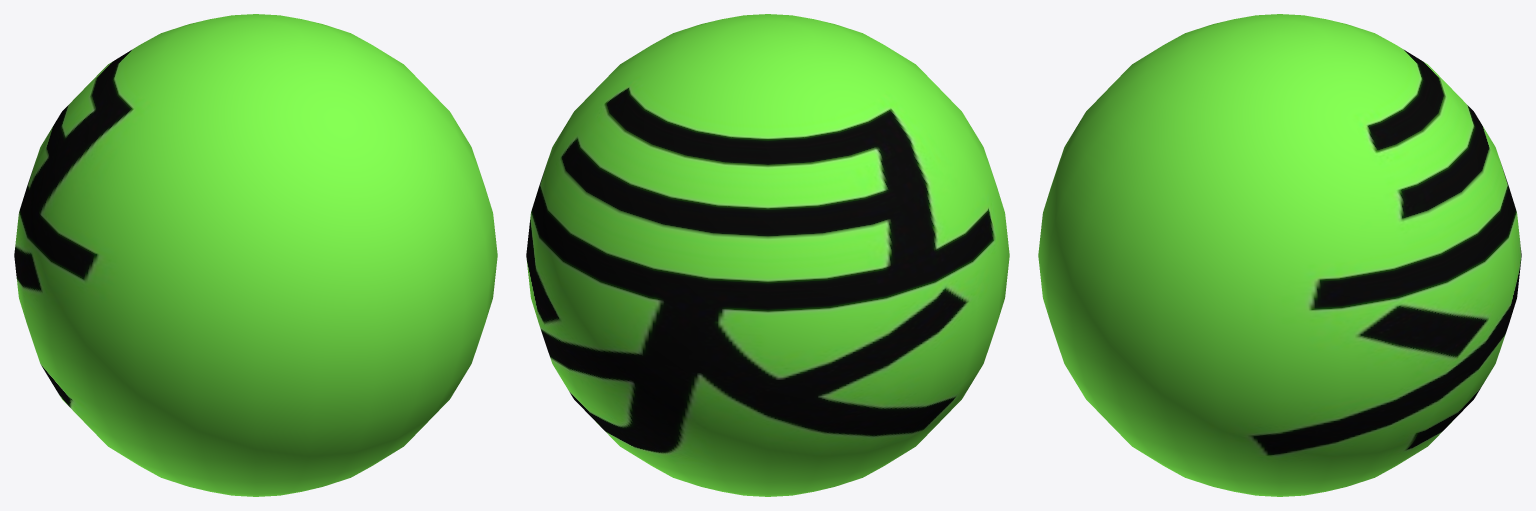
Rendered from anchor.obj.
3 views of the same model, side by side, from view 1: azimuth 30°, elevation 25°; view 2: azimuth 150°, elevation 25°; view 3: azimuth 270°, elevation 25° (orthographic).
Parts seen in each view (by area): view 1: AnchorSphere; view 2: AnchorSphere; view 3: AnchorSphere.
Boxes of the visible parts, <box> form: AnchorSphere: <box>14,14,497,496</box>; AnchorSphere: <box>526,14,1009,496</box>; AnchorSphere: <box>1038,14,1521,496</box>.
Size of the model in its own units: 2 by 2 by 2.
Materials: 1 (1 with a texture image).
